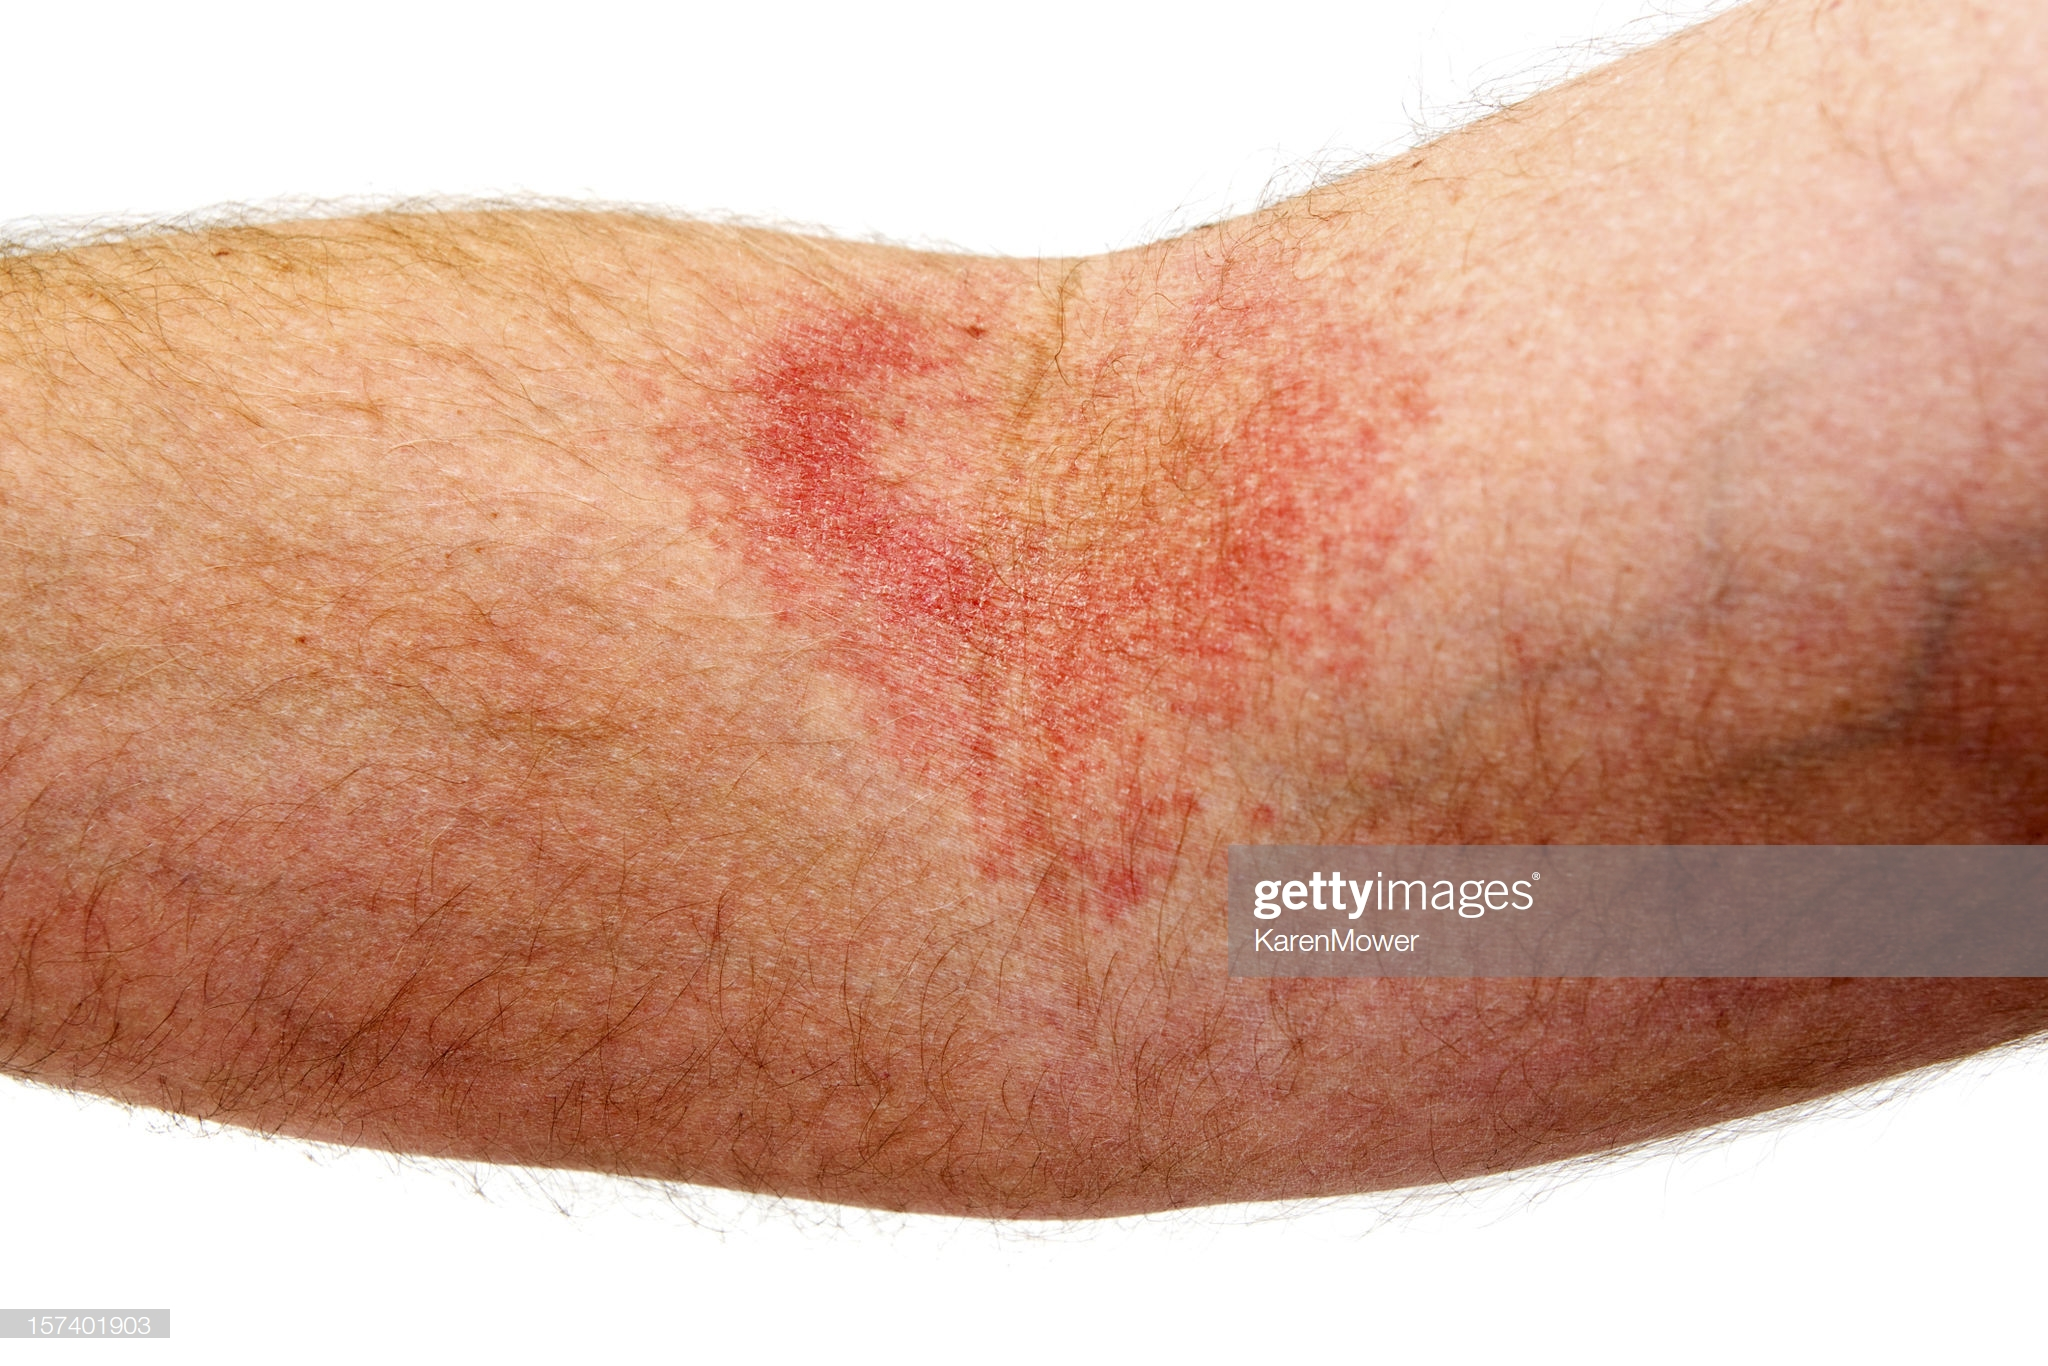Eczema: (600, 224, 1516, 890)
